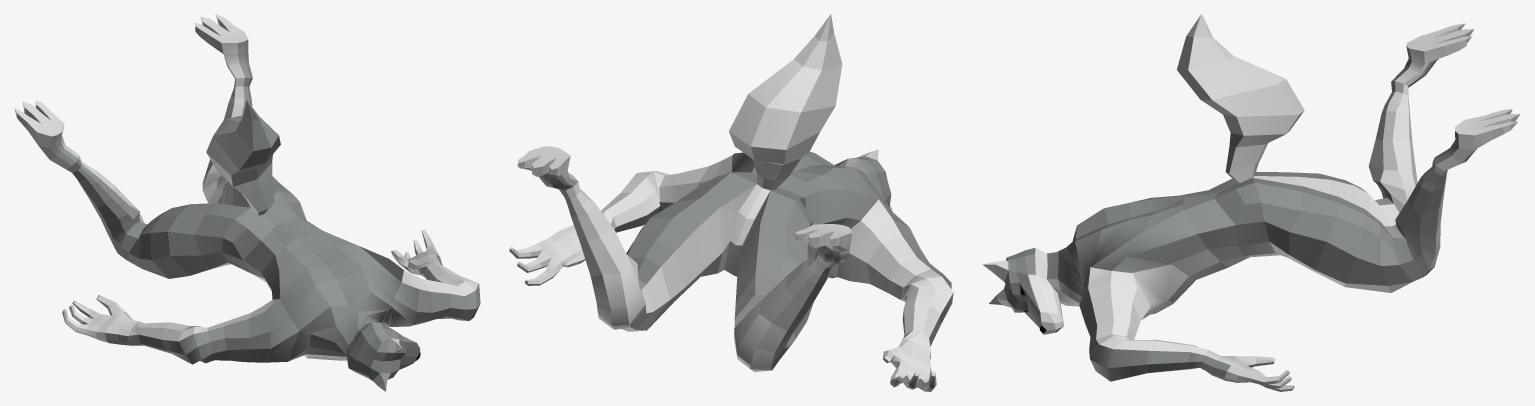
File: WolfDead(81).obj
3 renders of one model, left to right at view 1: azimuth 30°, elevation 25°; view 2: azimuth 150°, elevation 25°; view 3: azimuth 270°, elevation 25°, orthographic. The views are drawn at different scales.
Visible parts, largest first — view 1: Box001; view 2: Box001; view 3: Box001.
Boxes of the visible parts, x1=… form: Box001: x1=14, y1=14, x2=480, y2=391; Box001: x1=509, y1=14, x2=953, y2=391; Box001: x1=982, y1=14, x2=1520, y2=391.
Bounding box in the file's own units: 123 × 80.27 × 144.
